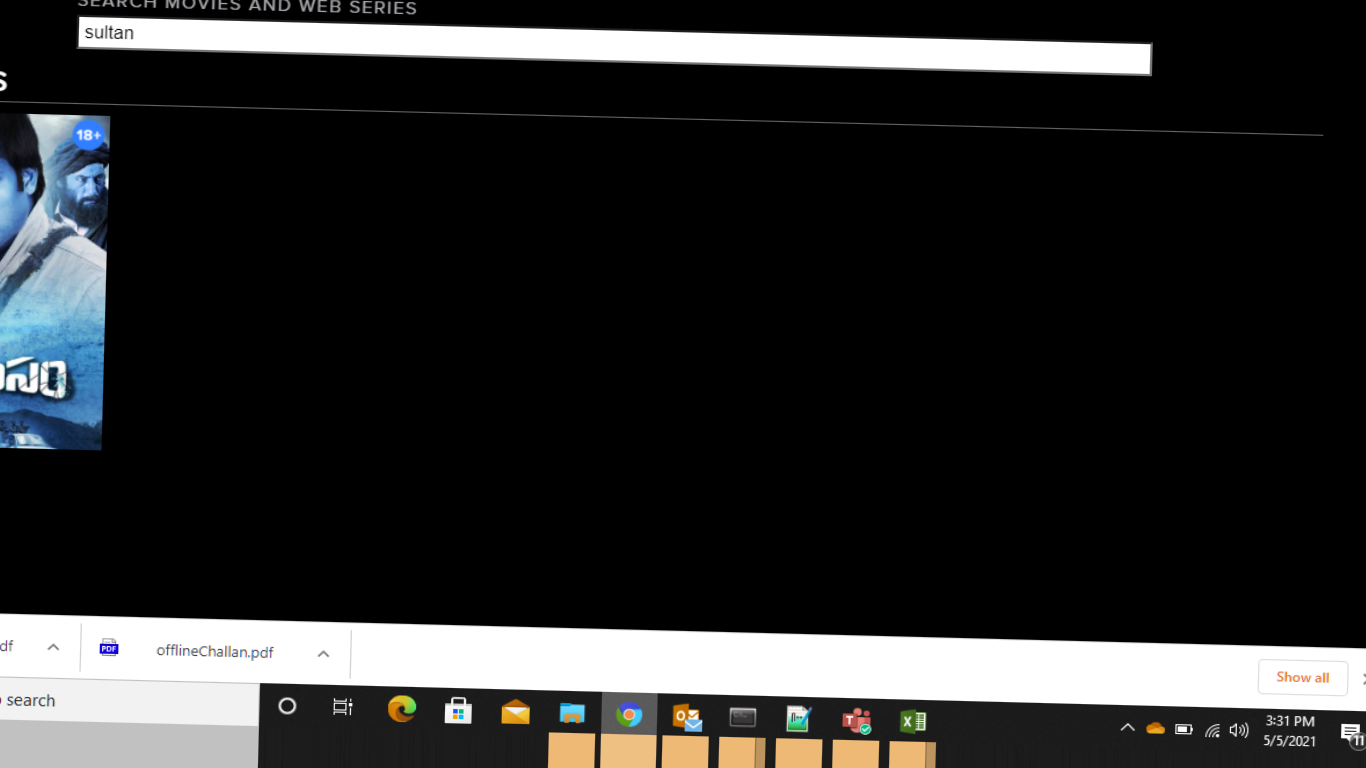searchtextbox: (72, 5, 1171, 97)
